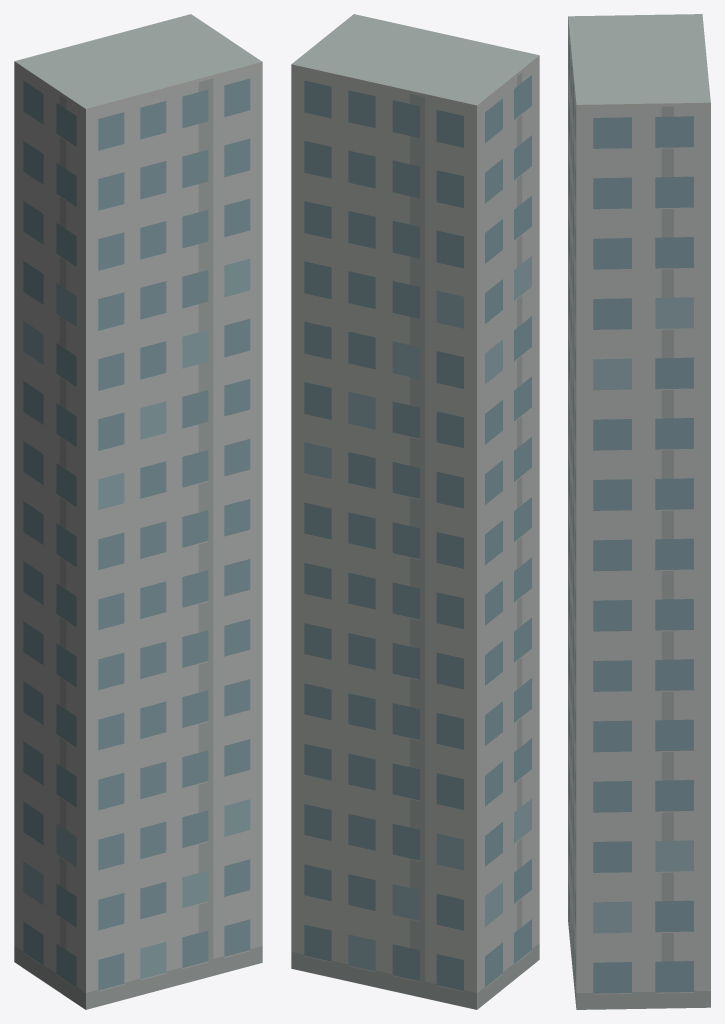
Rendered from residential-c12ce950-1be9-4e16-a15b-f1e1d2f817ca.glb.
3 renders of one model, left to right at view 1: azimuth 30°, elevation 25°; view 2: azimuth 150°, elevation 25°; view 3: azimuth 270°, elevation 25°, orthographic.
Parts seen in each view (by area): view 1: residential-c12ce950-1be9-4e16-a15b-f1e1d2f817ca.tmp; view 2: residential-c12ce950-1be9-4e16-a15b-f1e1d2f817ca.tmp; view 3: residential-c12ce950-1be9-4e16-a15b-f1e1d2f817ca.tmp.
Boxes of the visible parts, x1,y1,x2,y2 form: residential-c12ce950-1be9-4e16-a15b-f1e1d2f817ca.tmp: (14,14,262,1009); residential-c12ce950-1be9-4e16-a15b-f1e1d2f817ca.tmp: (291,14,539,1009); residential-c12ce950-1be9-4e16-a15b-f1e1d2f817ca.tmp: (568,14,710,1009).
Bounding box in the file's own units: 14.66 × 68 × 9.73.
